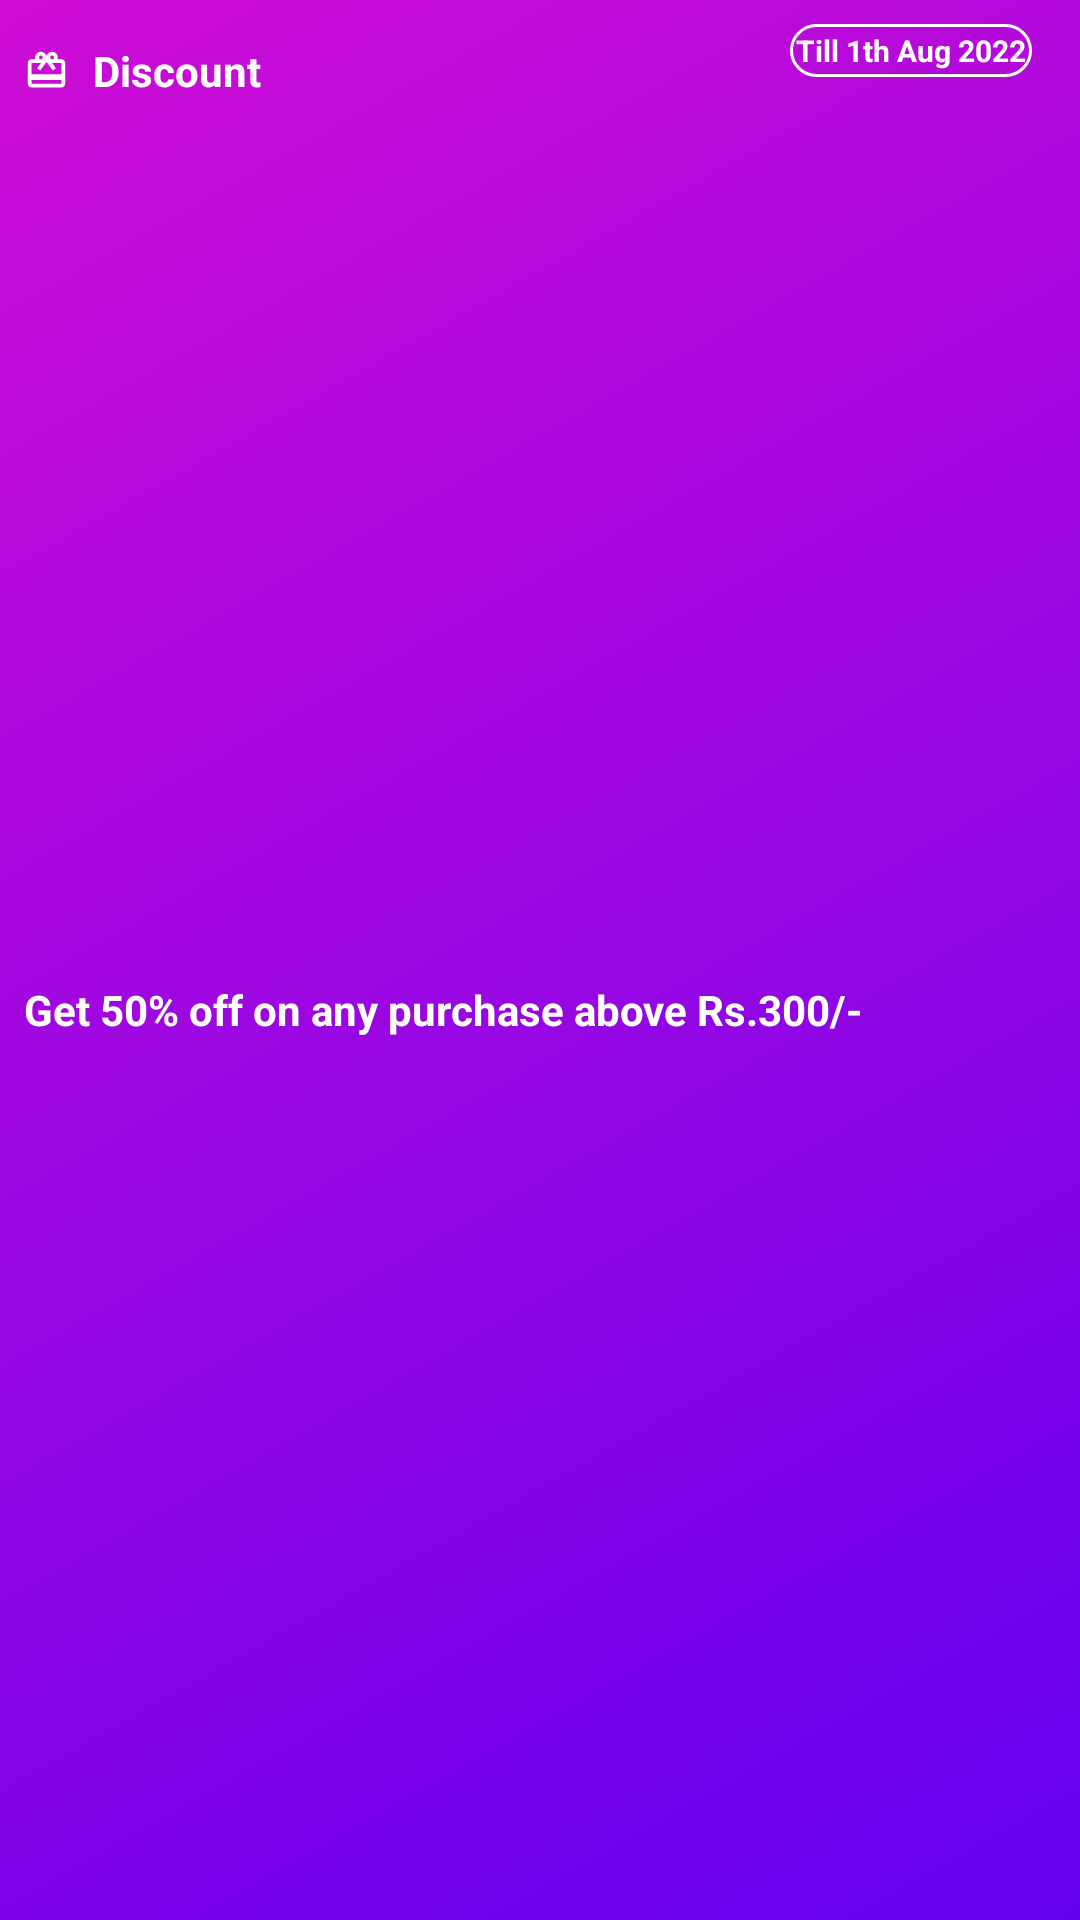

Screen size 1080w x 1920h. Icon name, then its center in pixels as (x,y):
reward: (46,69)
